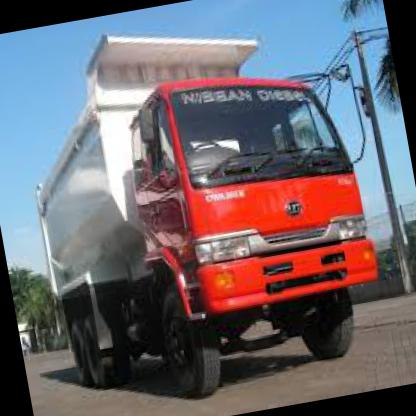truck: (116, 53, 394, 405)
